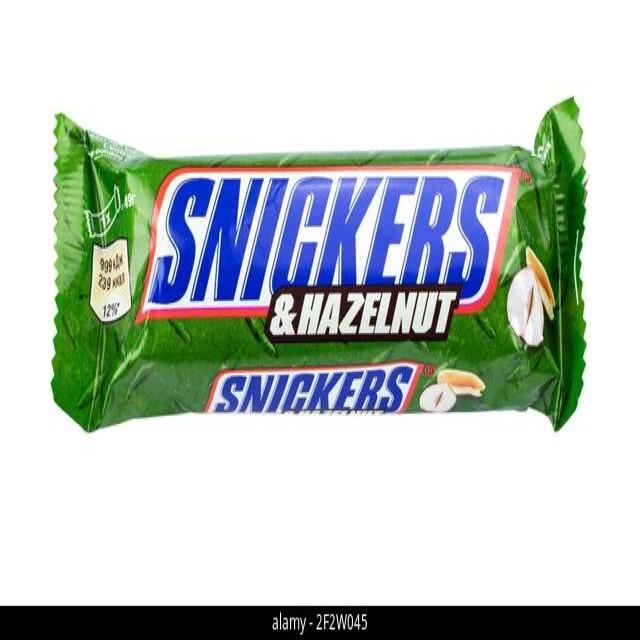snickers_chocolate: (74, 120, 578, 417)
